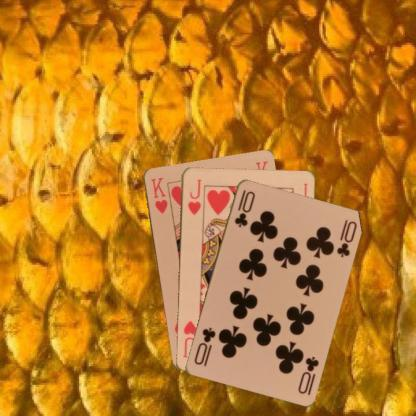10c: (295, 353, 320, 395), (232, 186, 256, 228)
Jh: (185, 176, 202, 216)
Kh: (148, 174, 169, 215)
